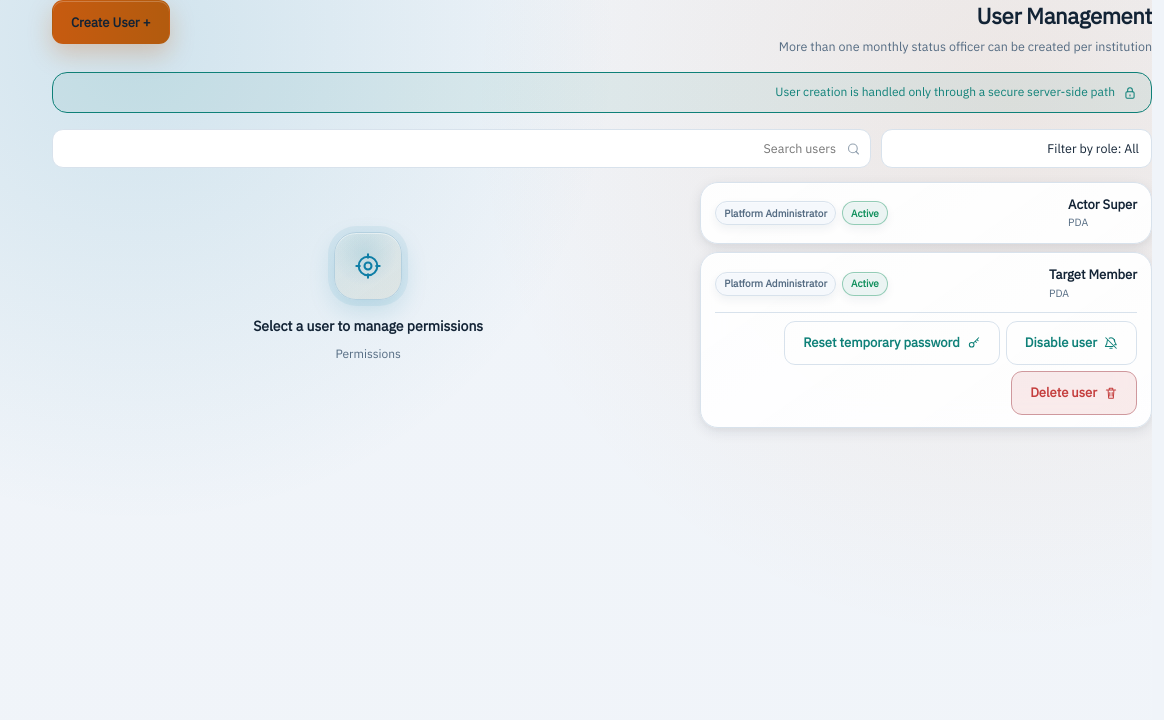
Test: P1 — the matrix saves the explicit choice and it survives reload and reopen › reset to role defaults still goes through the reset path and returns the person to the database defaults
Click the text "Target Member". click: (1093, 276)
box: [1049, 266, 1137, 286]
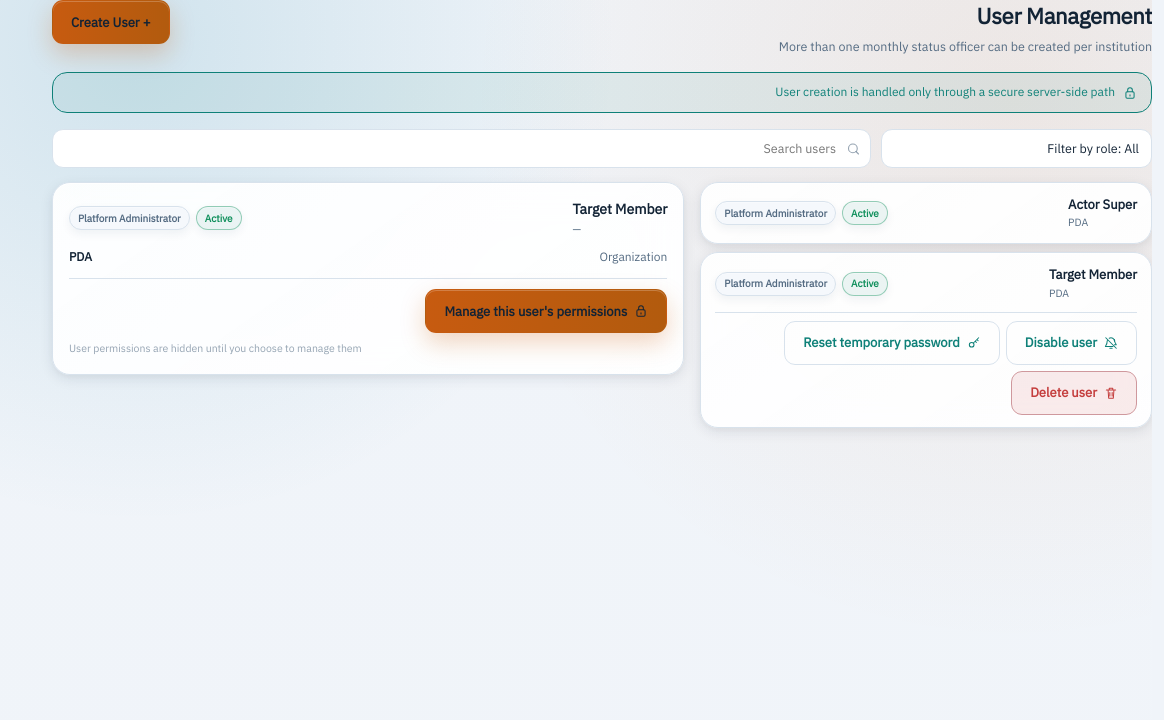
Click the button "Manage this user's permissions". click: (546, 311)
box: [426, 289, 667, 333]
(page scrolled)
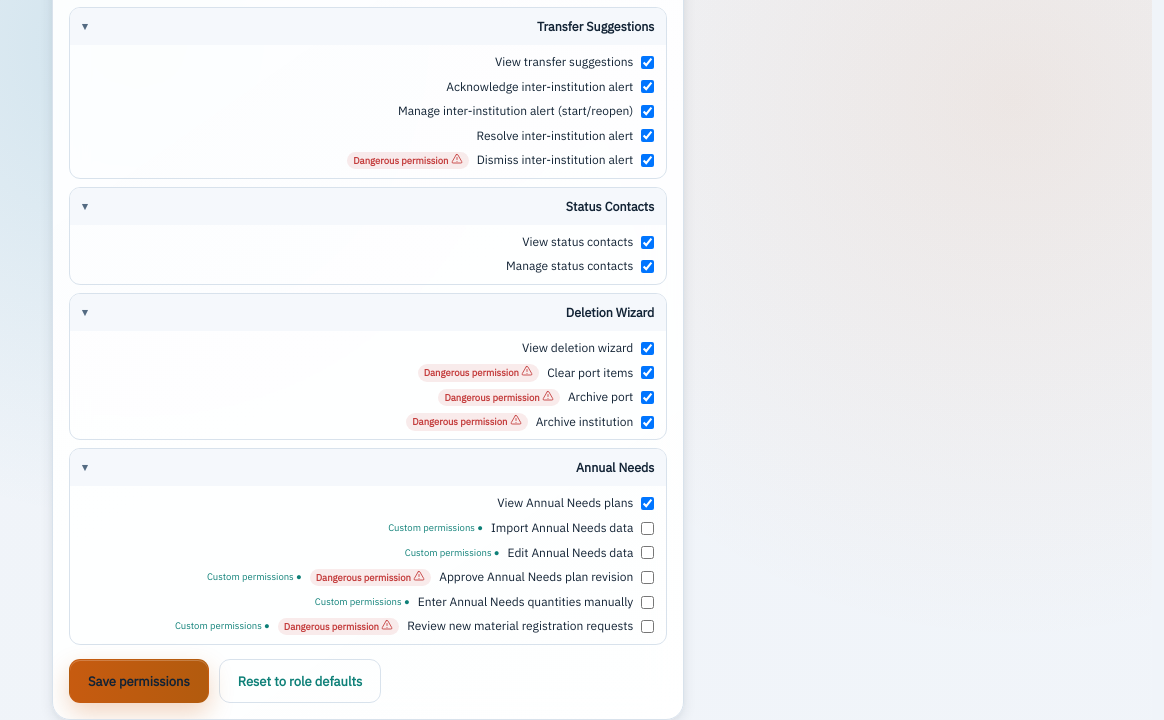
expect the text "View Annual Needs plans" is shown: met, box [497, 494, 633, 513]
expect the checkbox labelled "View Annual Needs plans" is checked: met, box [641, 497, 654, 510]
Click the button "Reset to role defaults". click: (300, 681)
box: [219, 659, 381, 703]
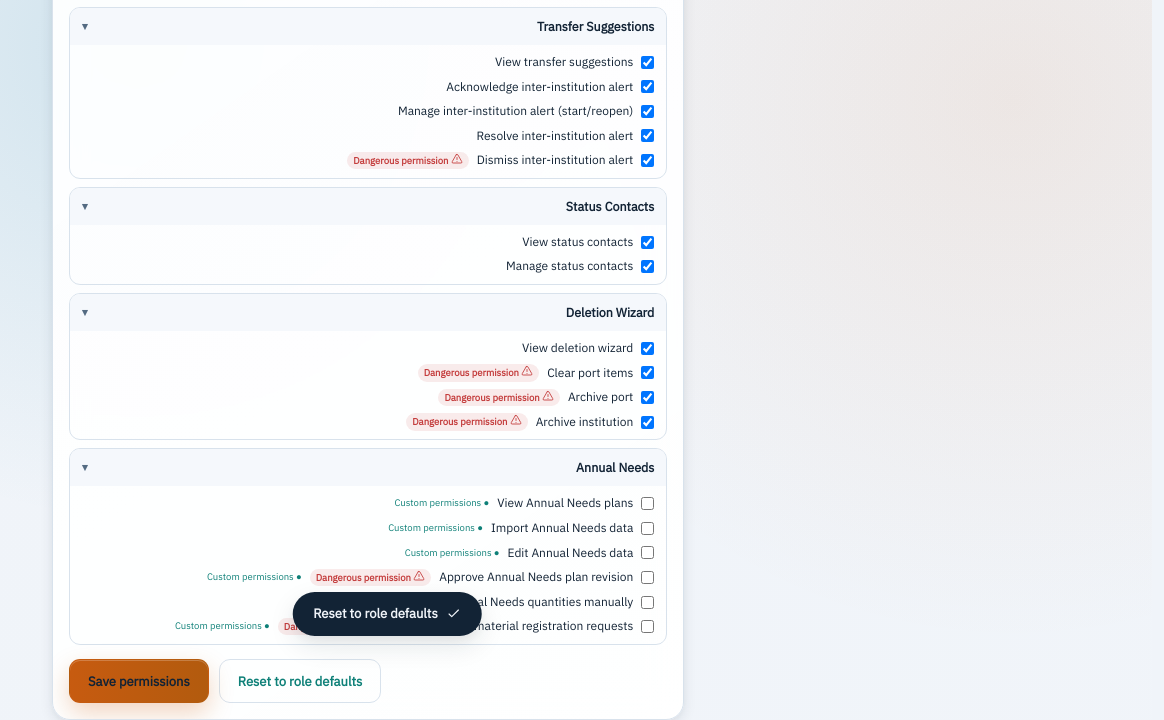
expect the checkbox labelled "View Annual Needs plans ● Custom permissions" is not checked: met, box [641, 497, 654, 510]
